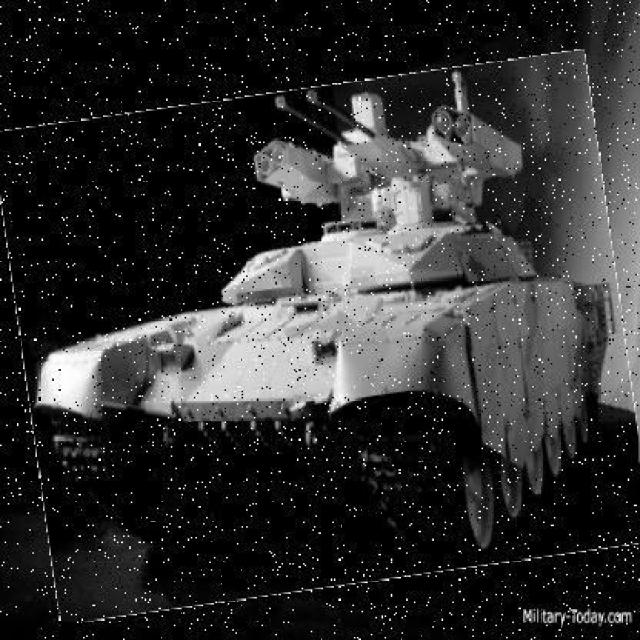Tank: (8, 69, 637, 606)
